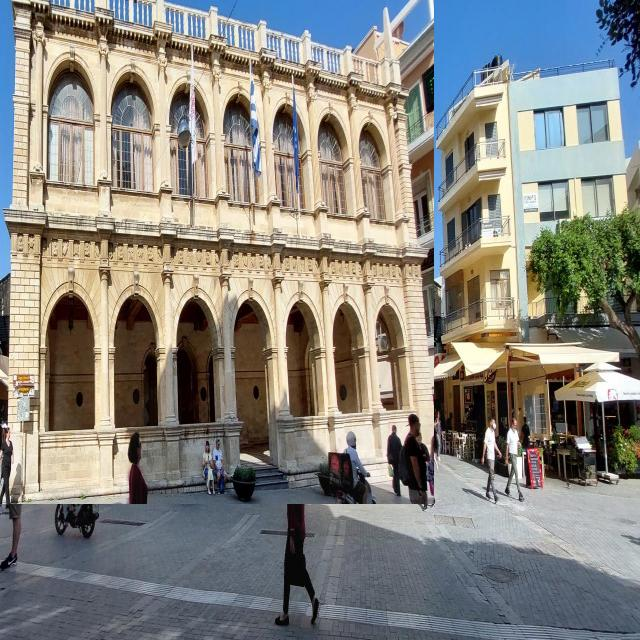Loggia: (1, 1, 435, 505)
